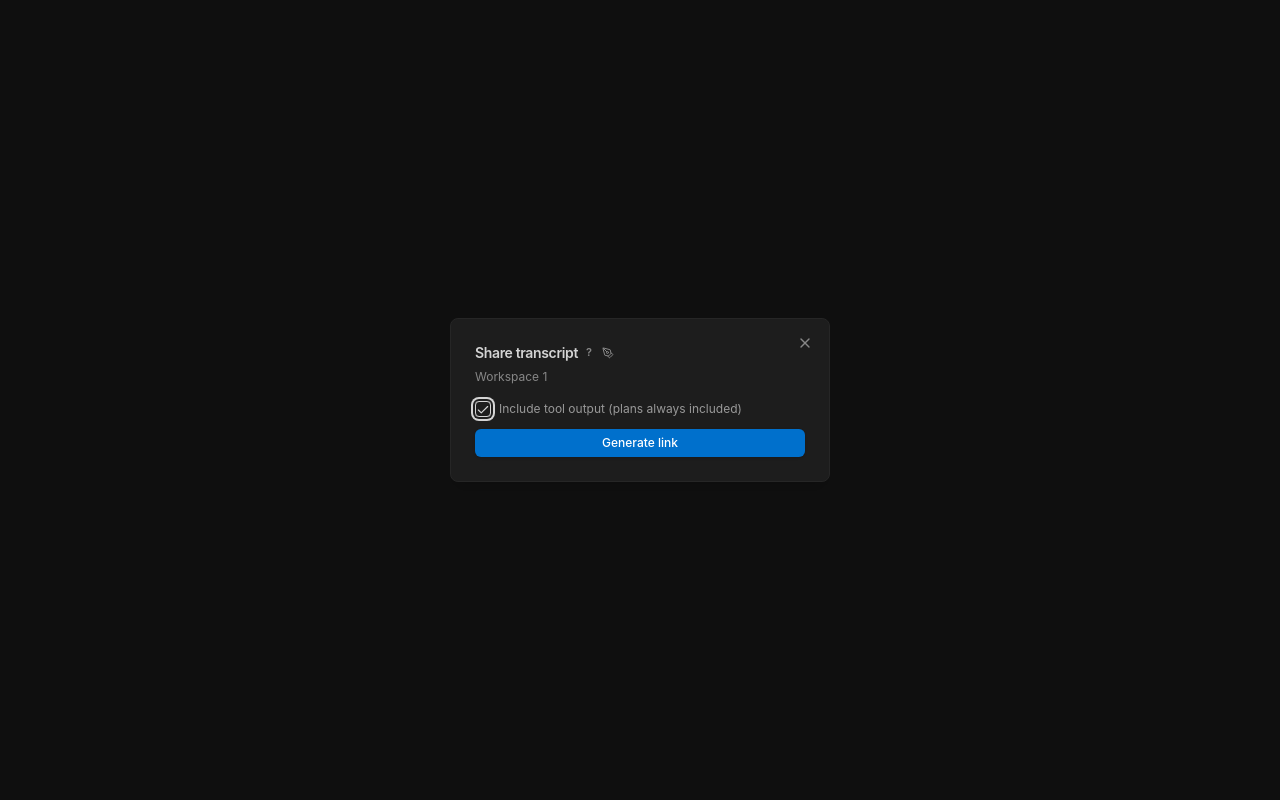
ShareTranscriptDialog › keeps shared transcript URL and surfaces an error when delete fails
The image size is (1280, 800).
Click the button "Generate link" at (640, 443), box left=475, top=429, right=805, bottom=457
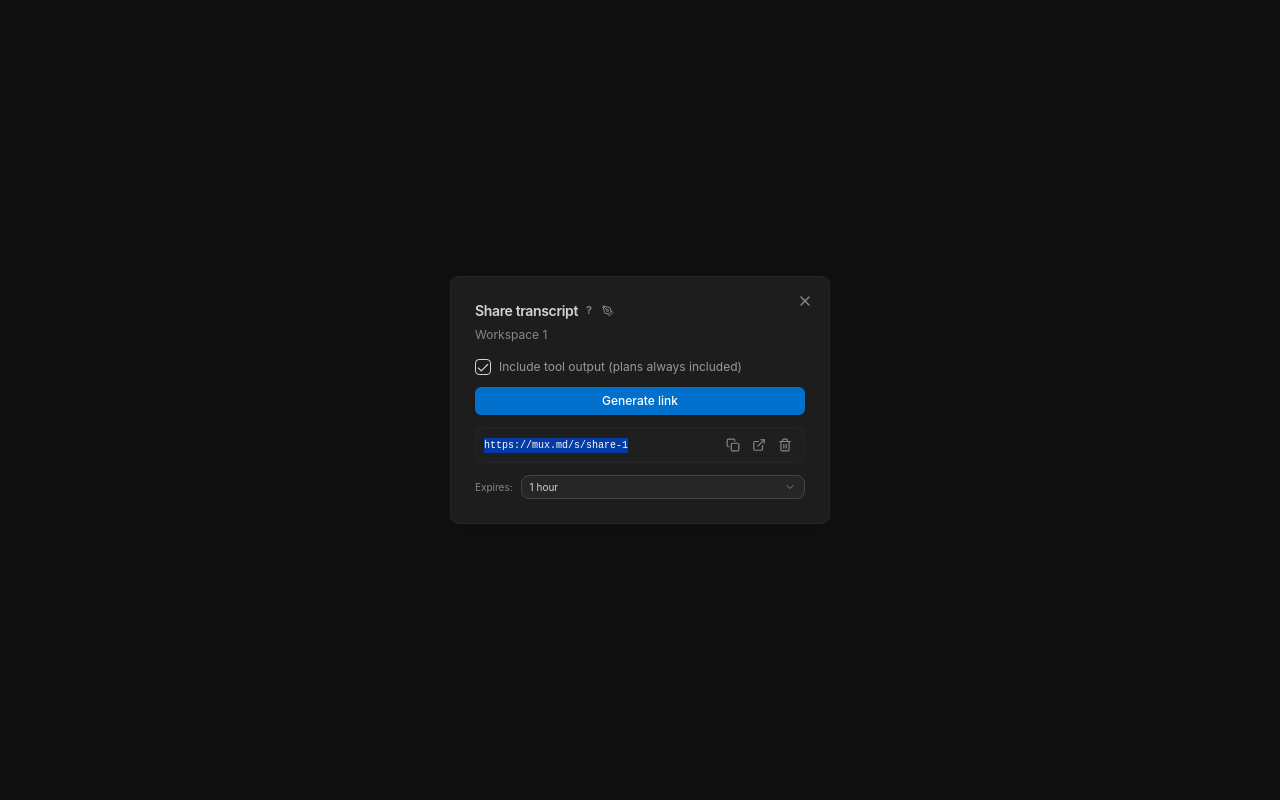
Expected: the field with test id "share-transcript-url" is shown, left=484, top=438, right=718, bottom=452
Click the button with test id "delete-share-transcript-url" at (785, 445), box left=774, top=434, right=796, bottom=456
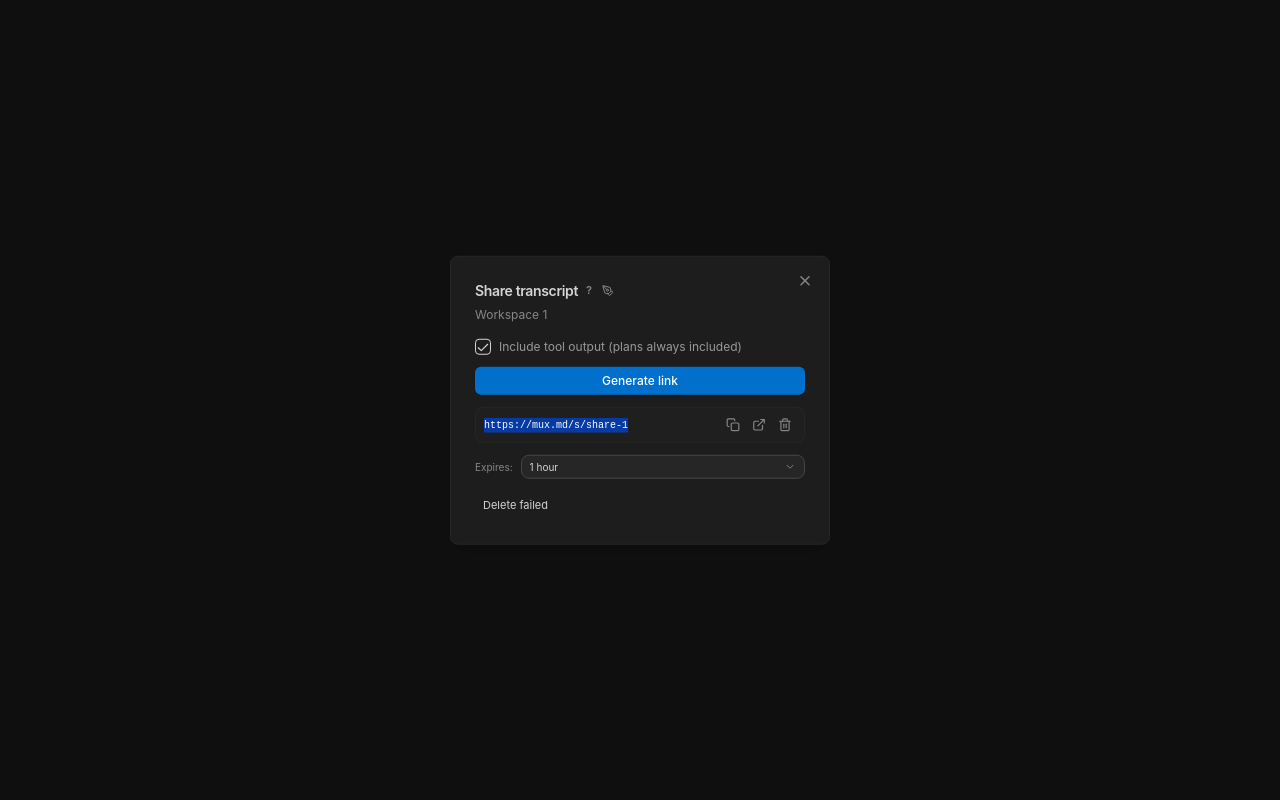
Expected: the field with test id "share-transcript-url" is shown, left=484, top=417, right=718, bottom=432
Expected: the message reads "Delete failed", left=483, top=498, right=548, bottom=512
